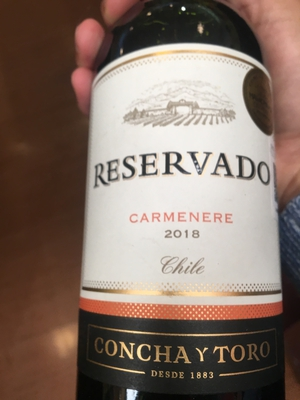reservado carmenere: (80, 8, 285, 400)
